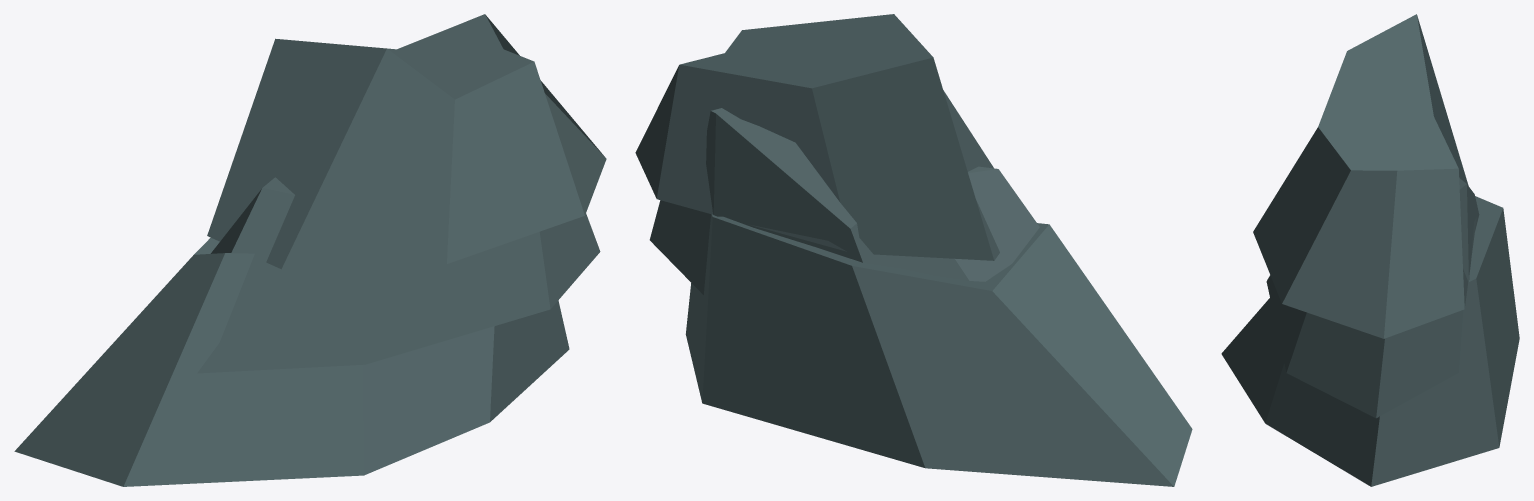
File: map-boundaries-v5__ridge_11.glb
The picture shows the model from 3 angles, left to right: view 1: azimuth 30°, elevation 25°; view 2: azimuth 150°, elevation 25°; view 3: azimuth 270°, elevation 25°; orthographic projection. The views are drawn at different scales.
Visible parts, largest first — view 1: ridge_11; view 2: ridge_11; view 3: ridge_11.
Boxes of the visible parts, bbox=[...] form: ridge_11: bbox=[14, 14, 606, 486]; ridge_11: bbox=[635, 14, 1192, 486]; ridge_11: bbox=[1221, 14, 1519, 486].
Size of the model in its own units: 1.55 by 0.9441 by 0.7384.
